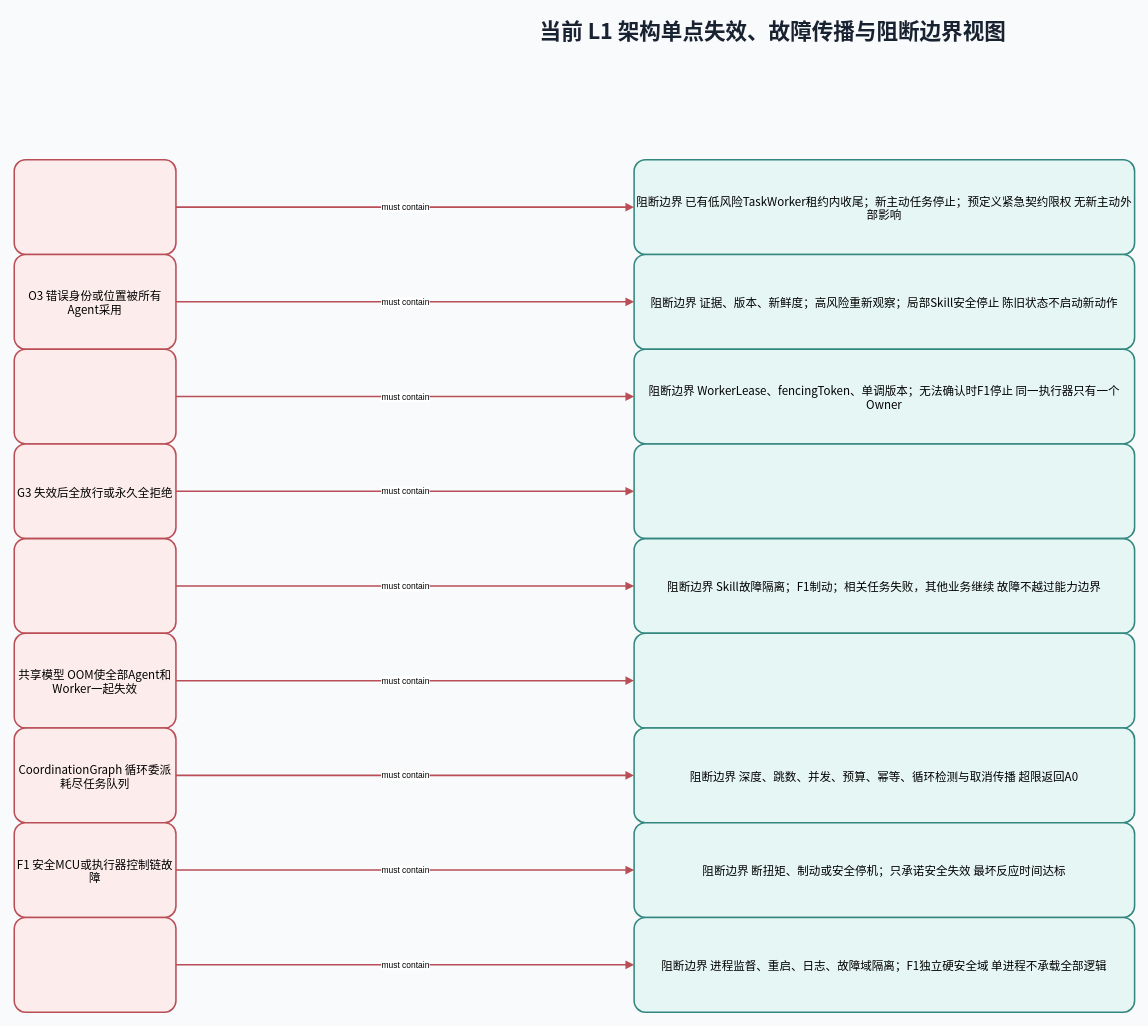
Image size: 1148x1026. Some labels were removed from this diagram. The shapes that lost their labels are listed below. From the top down, each one's centre as x and y in pixels, then its label:
(94,207): A0 主动健康任务授权前崩溃
(94,396): AP3 重启后新旧TaskWorker同时执行
(884,491): 阻断边界 低风险短许可；高风险默认拒绝；恢复后撤销旧PermitLease 不存在fail-open
(94,585): RobotSkill Navigation崩溃拖垮所有业务
(884,680): 阻断边界 配额、超时、优先级、隔离和确定性降级 基本停止与硬安全独立
(94,964): 共同部署 同一进程崩溃导致全部退出
